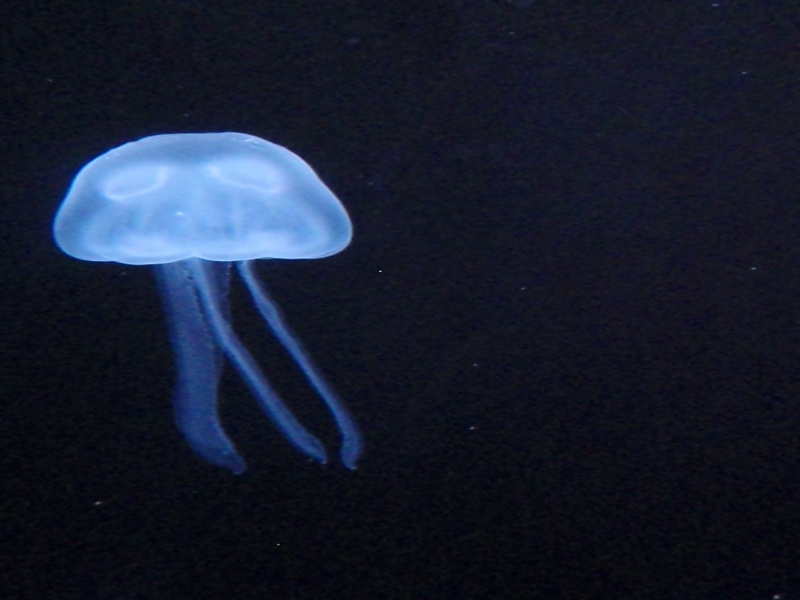Jellyfish: (49, 129, 375, 473)
